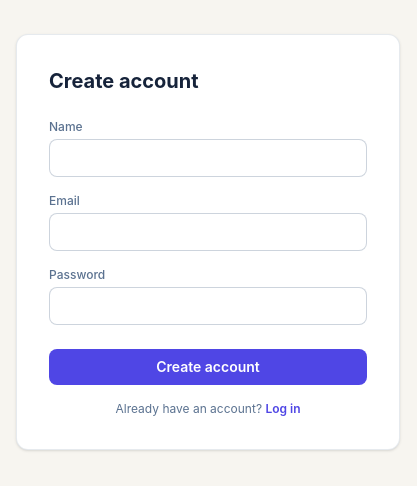
RegisterPage › shows the server error and does not navigate when registration rejects (negative case)
The width and height of the screenshot is (417, 486).
Type "Alice" into the field labelled "Name". click: (208, 158)
box: [49,139,367,177]
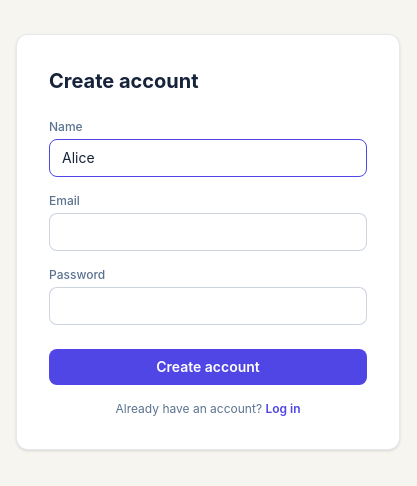
Type "alice@example.com" into the field labelled "Email". click: (208, 232)
box: [49,213,367,251]
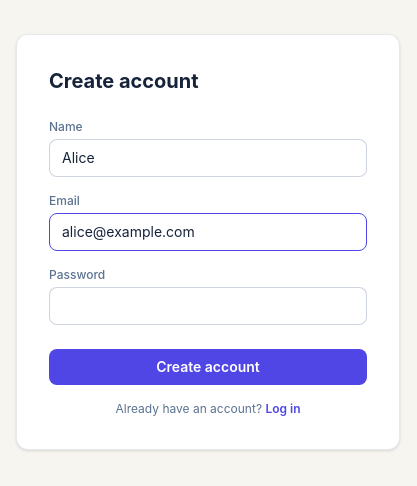
Type "a very strong password" into the password field labelled "Password". click: (208, 306)
box: [49,287,367,325]
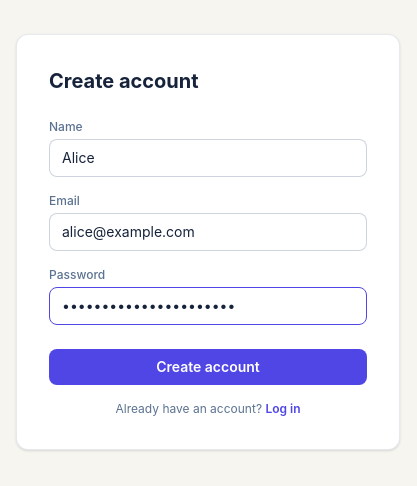
Click the button "Create account". click: (208, 367)
box: [49,349,367,385]
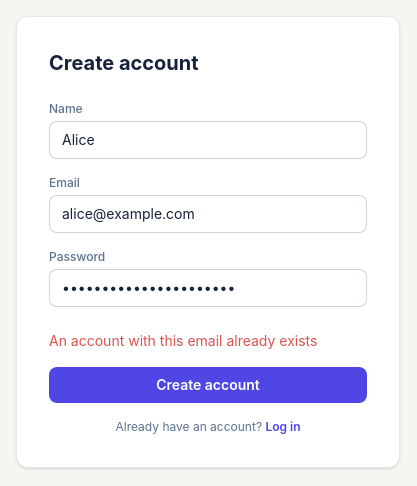
Result: the text "An account with this email already exists" is shown at [49,332,317,349]
